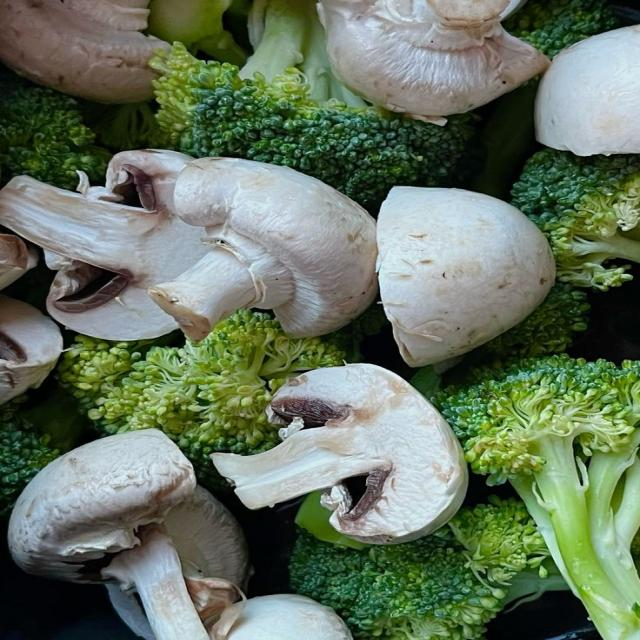broccoli: (150, 0, 475, 205), (435, 355, 639, 639), (57, 310, 343, 486), (290, 497, 563, 639), (411, 282, 590, 398), (512, 149, 639, 290), (0, 71, 111, 189), (0, 392, 84, 516), (479, 282, 590, 359), (473, 77, 539, 199), (503, 0, 619, 57), (147, 0, 246, 64), (81, 101, 168, 152), (331, 301, 391, 362)
champignon mushrooms: (211, 364, 467, 543), (7, 429, 206, 639), (148, 157, 377, 339), (0, 151, 205, 339), (376, 187, 555, 366), (317, 0, 548, 119), (0, 0, 169, 103), (535, 25, 639, 156), (164, 485, 251, 587), (0, 295, 63, 403), (210, 594, 351, 639), (106, 585, 152, 639)
